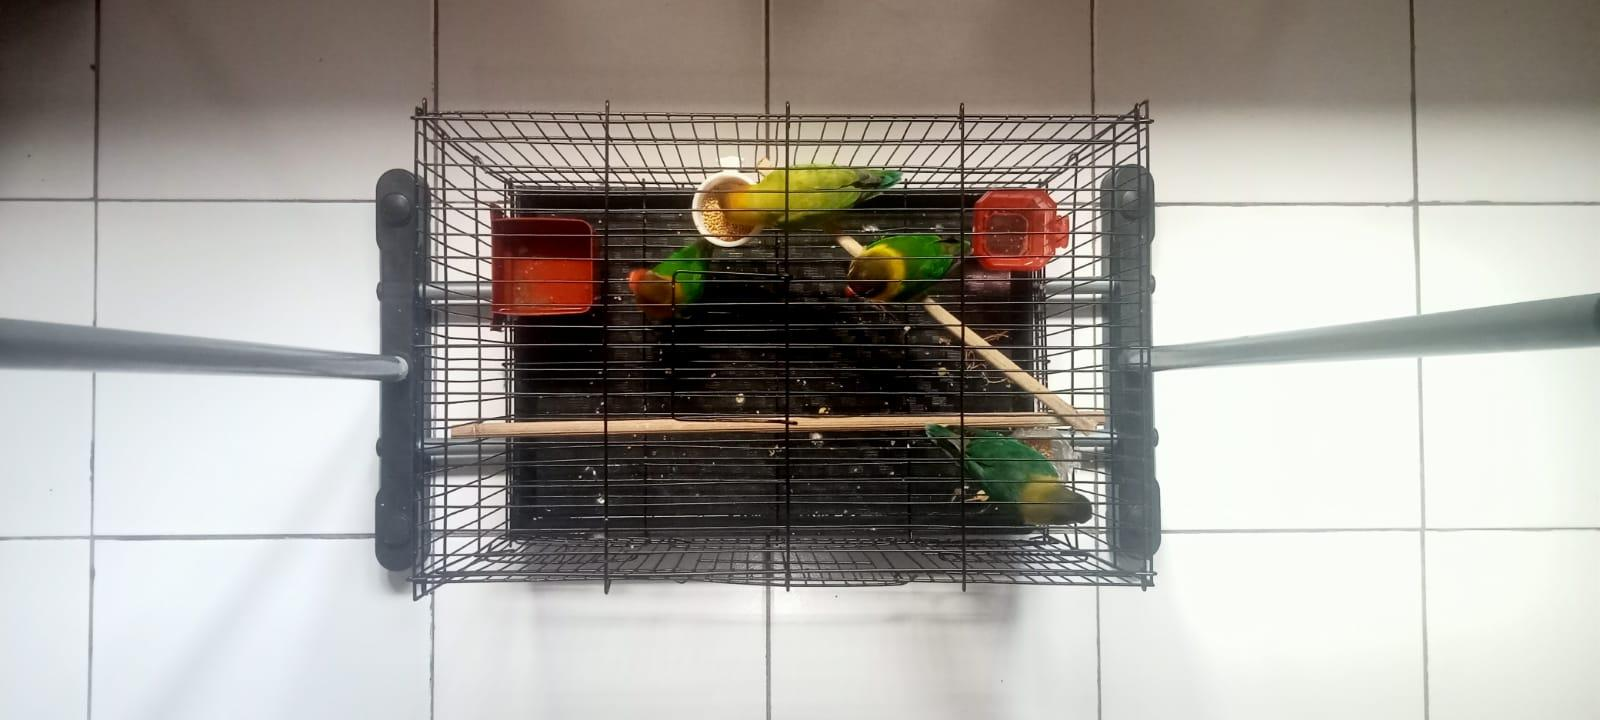LoveBird: (926, 424, 1093, 524), (719, 164, 902, 232), (844, 235, 973, 305), (625, 238, 715, 317)
